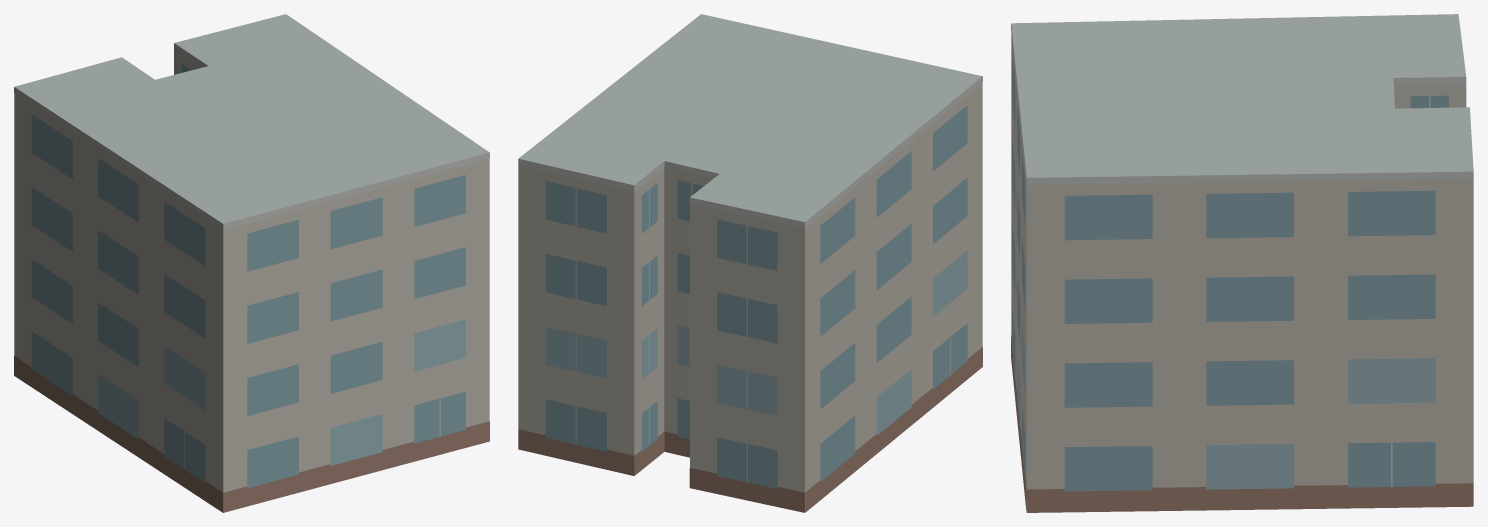
File: survey-upis-33003225.glb
3 views of the same model, side by side, from view 1: azimuth 30°, elevation 25°; view 2: azimuth 150°, elevation 25°; view 3: azimuth 270°, elevation 25° (orthographic). The views are drawn at different scales.
Visible parts, largest first — view 1: survey-upis-33003225.tmp; view 2: survey-upis-33003225.tmp; view 3: survey-upis-33003225.tmp.
Part boxes in pixels (x1,y1,x2,y2): survey-upis-33003225.tmp: (14, 14, 489, 512); survey-upis-33003225.tmp: (518, 14, 982, 512); survey-upis-33003225.tmp: (1011, 14, 1473, 512).
Bounding box in the file's own units: 12.17 × 11.6 × 14.52.
